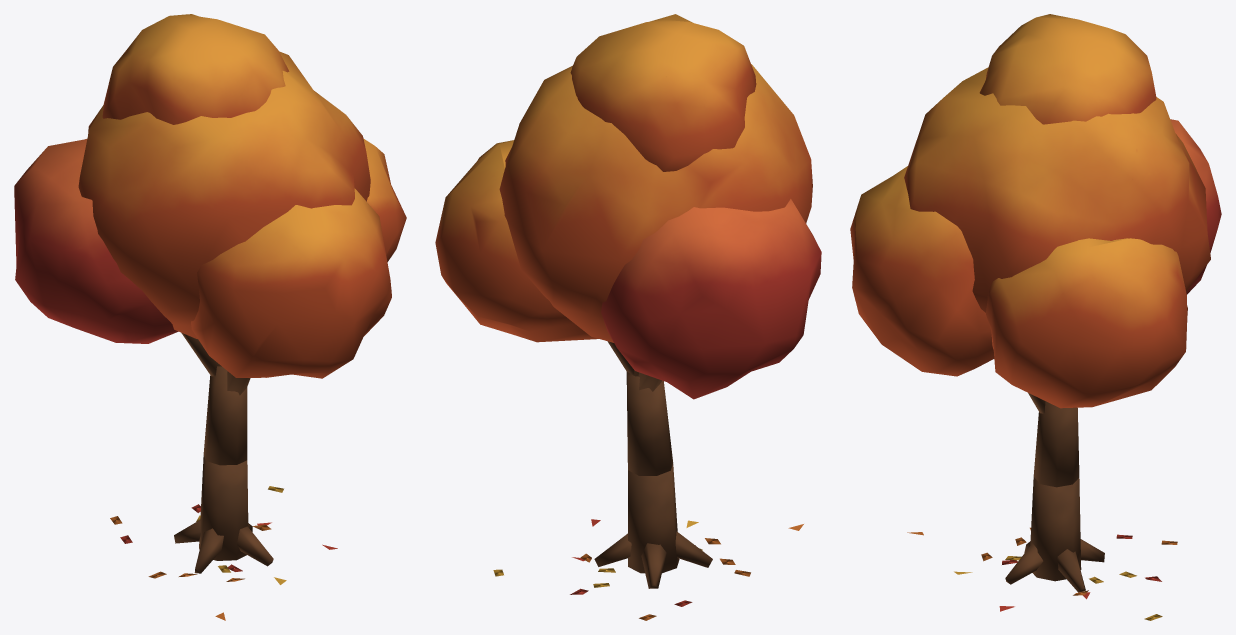
The model's file is season_decid_a_autumn.glb.
The picture shows the model from 3 angles, left to right: view 1: azimuth 30°, elevation 25°; view 2: azimuth 150°, elevation 25°; view 3: azimuth 270°, elevation 25°; orthographic projection. The views are drawn at different scales.
Visible parts, largest first — view 1: branches; view 2: branches; view 3: branches.
Part boxes in pixels (x1,y1,x2,y2): branches: [14, 14, 406, 620]; branches: [435, 14, 821, 620]; branches: [850, 14, 1221, 620].
Size of the model in its own units: 2.65 by 3.88 by 2.42.
1 material, 1 textured.
